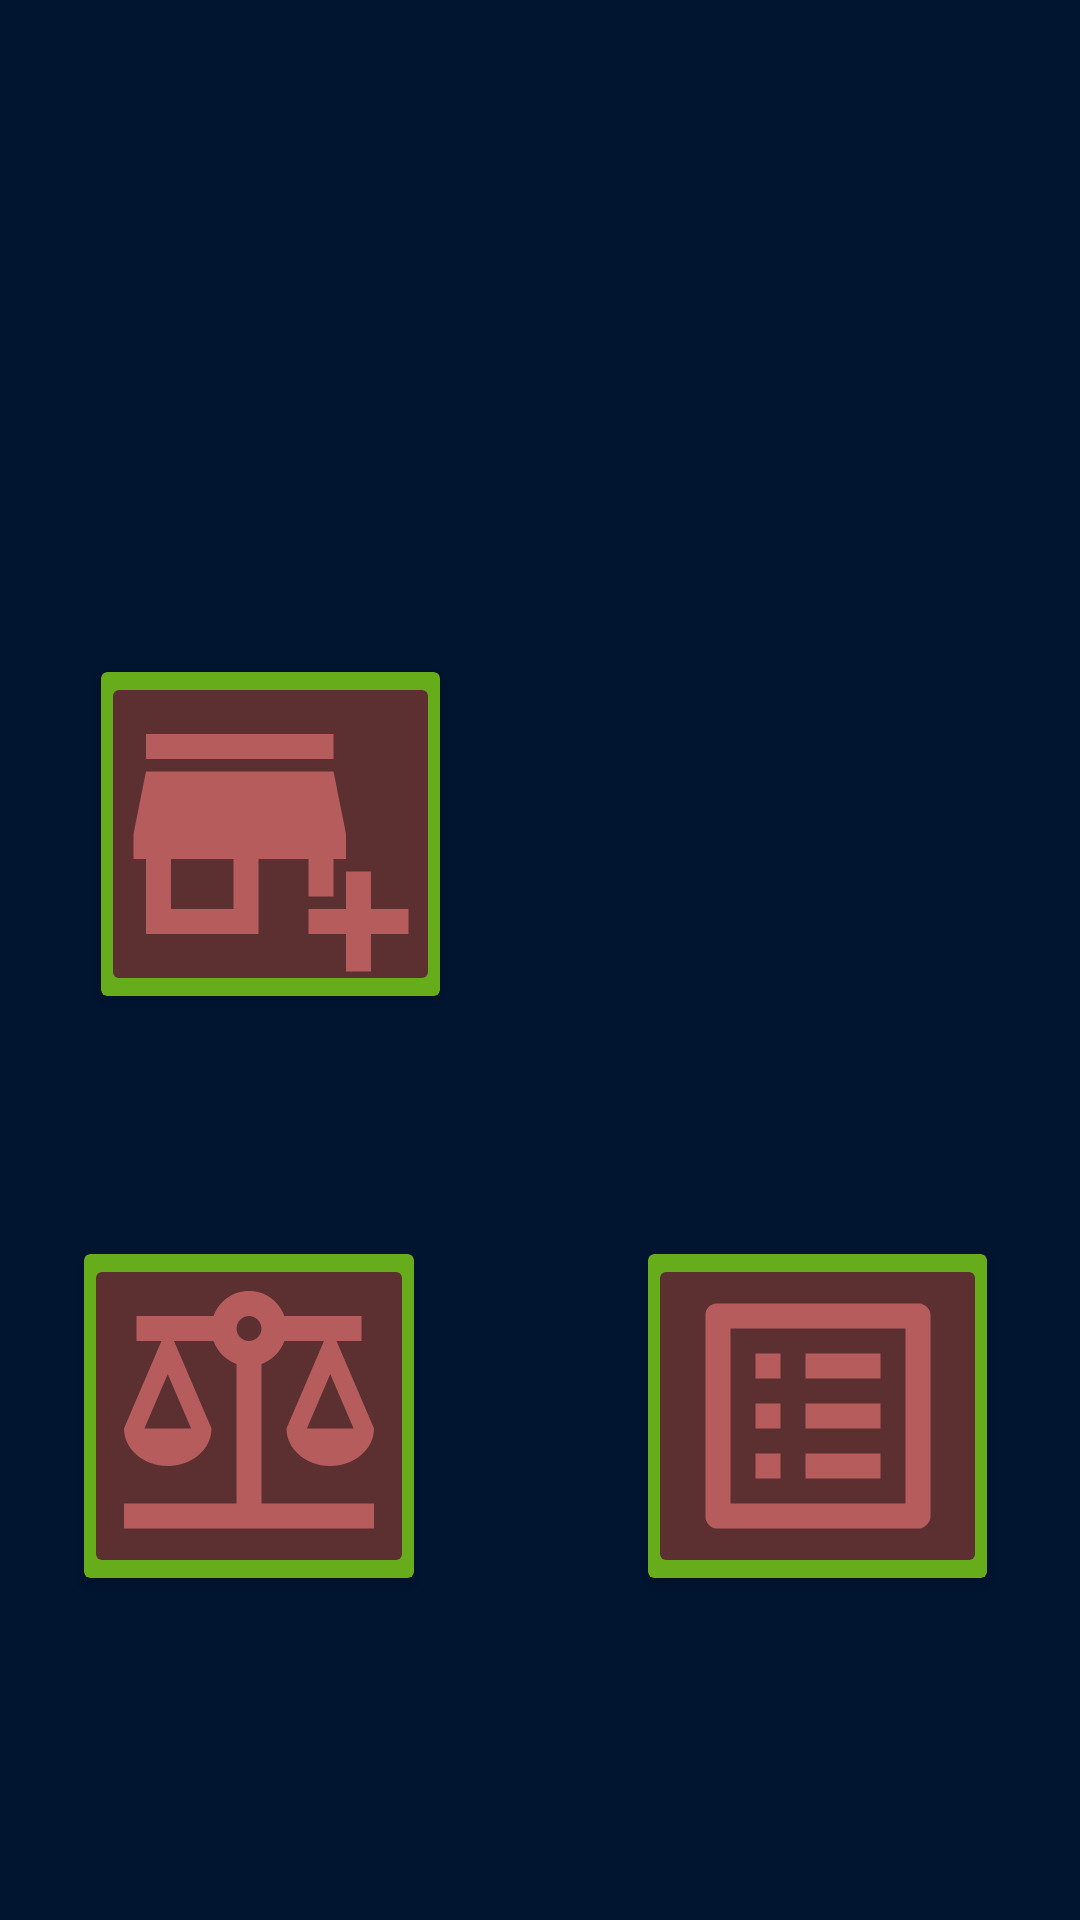

Screen size 1080×1920. Icon name, then its center in pixels as (x=x, y=y):
add business: (x=270, y=834)
balance: (x=249, y=1416)
list: (x=817, y=1416)
